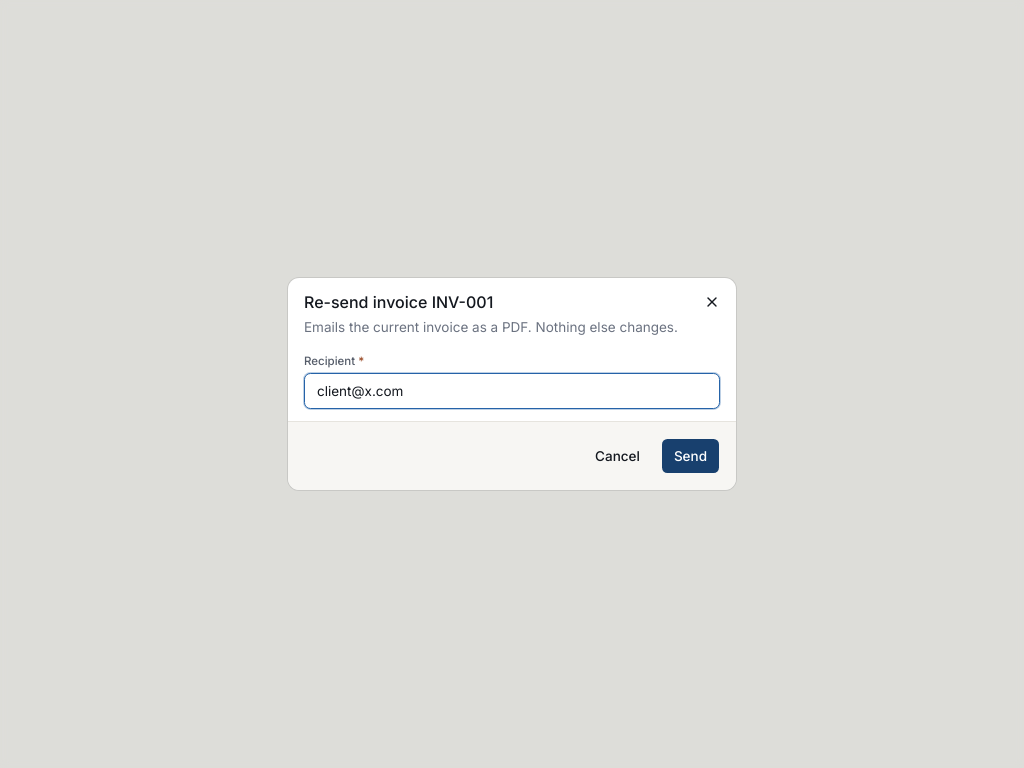
it: ResendInvoiceDialog › shows an error banner and stays open
This screenshot has width=1024, height=768.
What coordinates should you click on to do the following:
click the button "Send"
I would click on:
 (690, 456)
Its box is left=661, top=438, right=720, bottom=474.
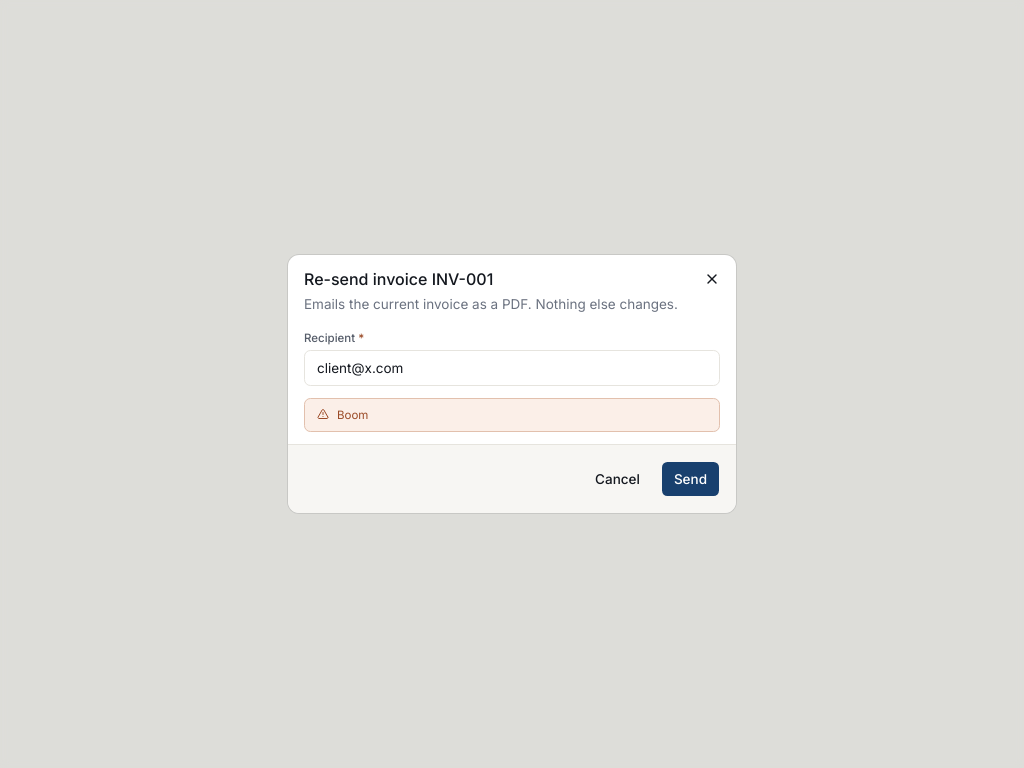
Result: the text "Boom" is shown at left=337, top=407, right=368, bottom=423
